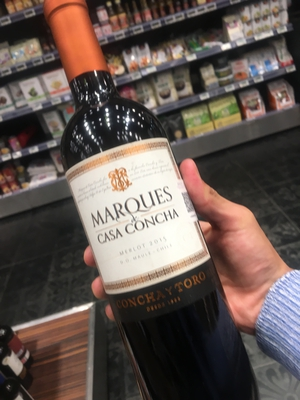marques de casa concha merlot: (42, 4, 255, 396)
